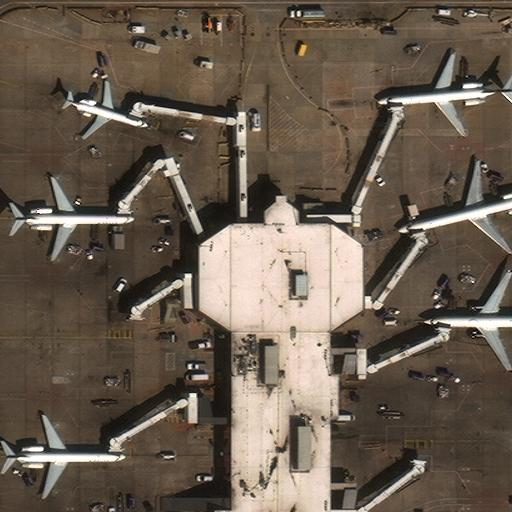Medium Civil Transport: (377, 53, 512, 136), (397, 160, 512, 253), (5, 415, 126, 498), (14, 178, 134, 259), (423, 270, 512, 371), (65, 81, 148, 139)
